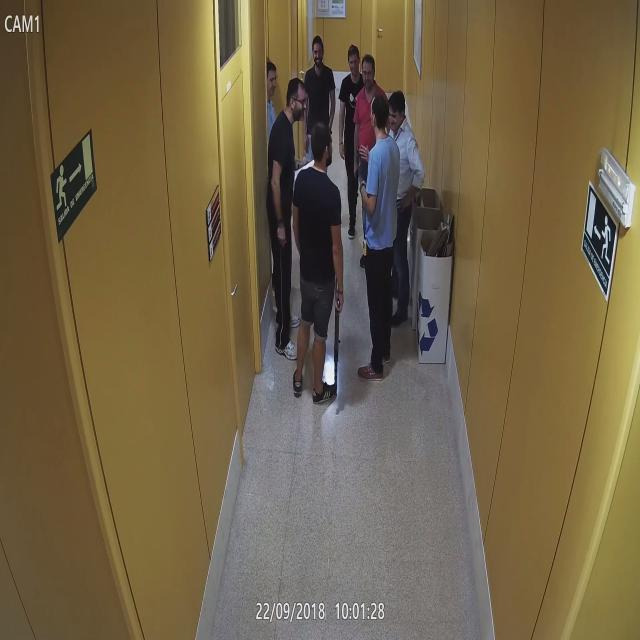Gun: (354, 145, 364, 170)
